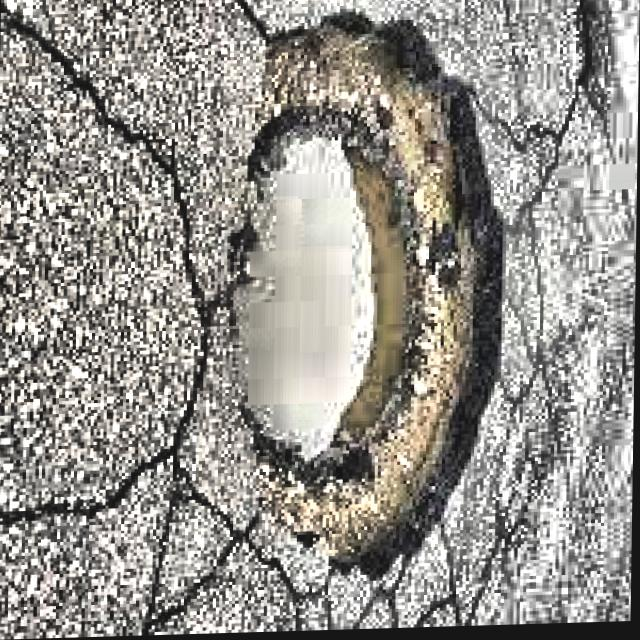pothole: (233, 15, 502, 578)
